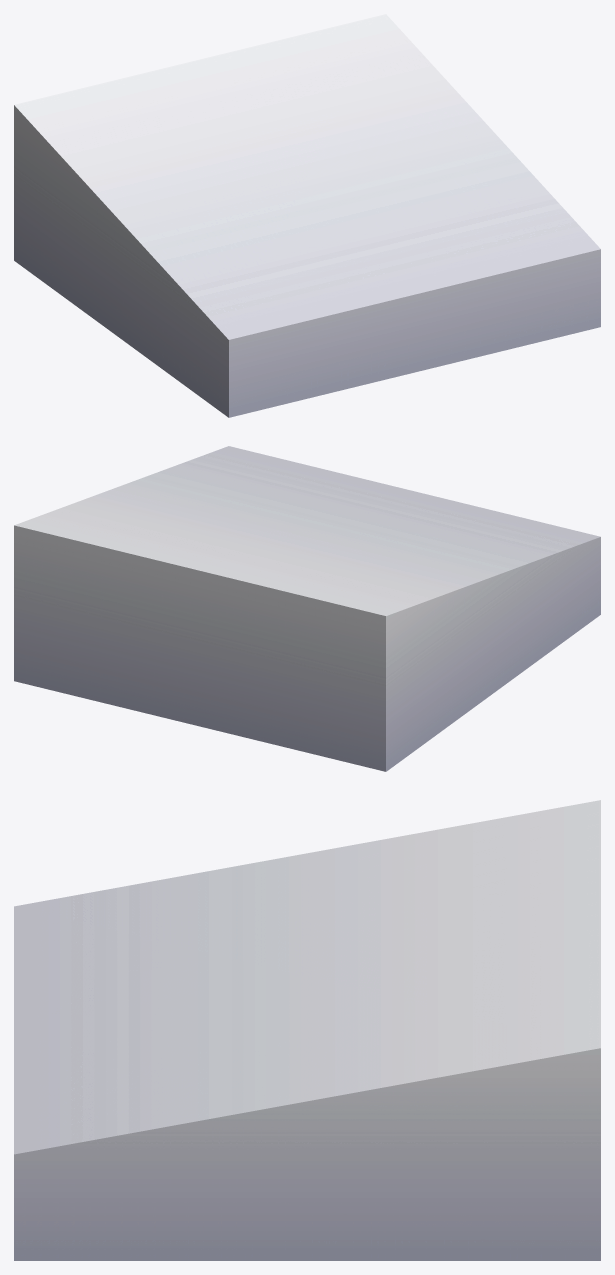
Rendered from snow-tile-slope.glb.
The picture shows the model from 3 angles, top to bottom: view 1: azimuth 30°, elevation 25°; view 2: azimuth 150°, elevation 25°; view 3: azimuth 270°, elevation 25°; orthographic projection. The views are drawn at different scales.
Parts seen in each view (by area): view 1: snow-tile-slope; view 2: snow-tile-slope; view 3: snow-tile-slope.
Boxes of the visible parts, x1,y1,x2,y2 form: snow-tile-slope: (14, 14, 600, 417); snow-tile-slope: (14, 446, 600, 771); snow-tile-slope: (14, 800, 600, 1260).
Size of the model in its own units: 1 by 0.4 by 1.
Materials: 1 (1 with a texture image).
